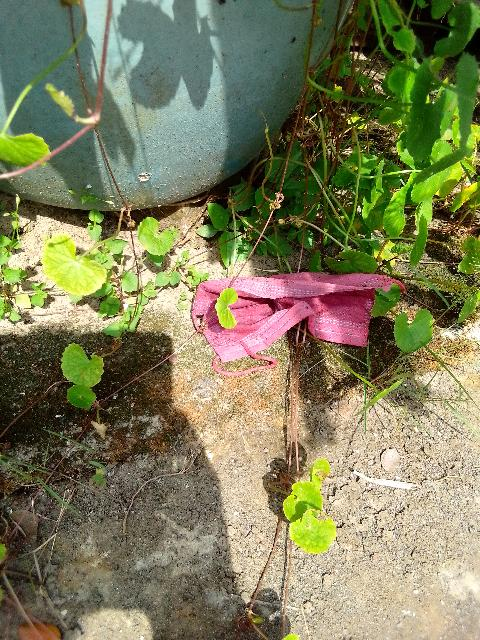mask: (207, 256, 384, 380)
